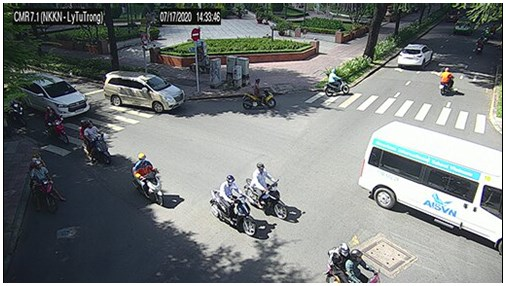xe_buyt: (358, 120, 503, 253)
xe_hoi: (104, 69, 185, 114), (15, 73, 91, 119), (397, 42, 434, 71), (453, 17, 474, 35)
xe_may: (209, 175, 259, 236), (243, 161, 289, 220), (325, 242, 381, 283), (27, 151, 63, 213), (130, 152, 166, 207), (78, 120, 113, 167), (42, 105, 71, 145), (243, 78, 277, 109), (324, 67, 349, 98), (9, 101, 27, 127), (439, 67, 454, 96)
